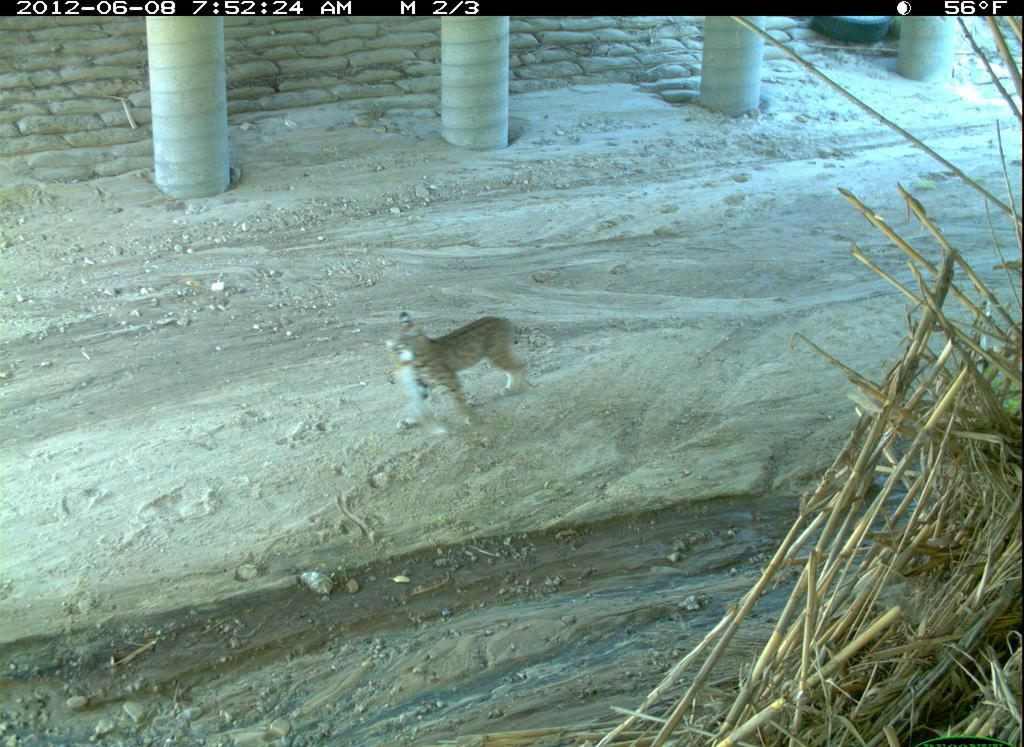bobcat: (370, 296, 555, 443)
